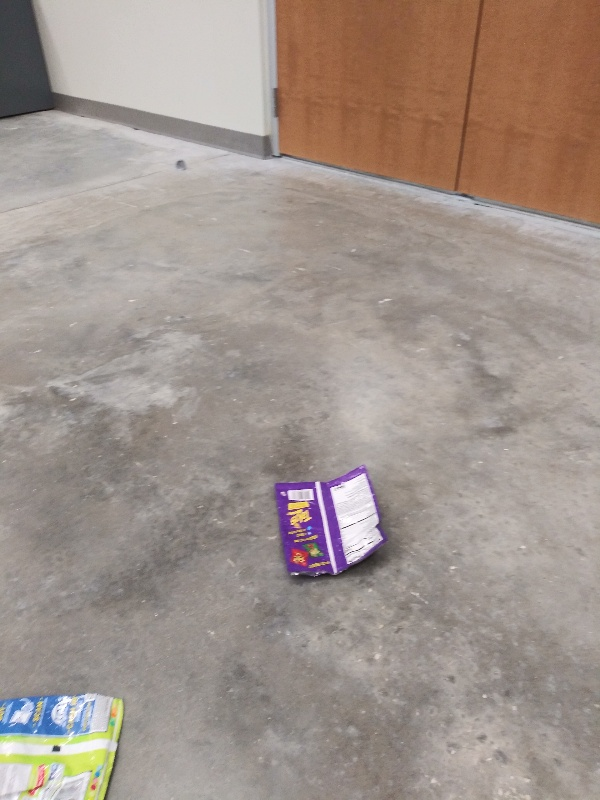bag: (270, 464, 392, 582), (1, 692, 130, 799)
